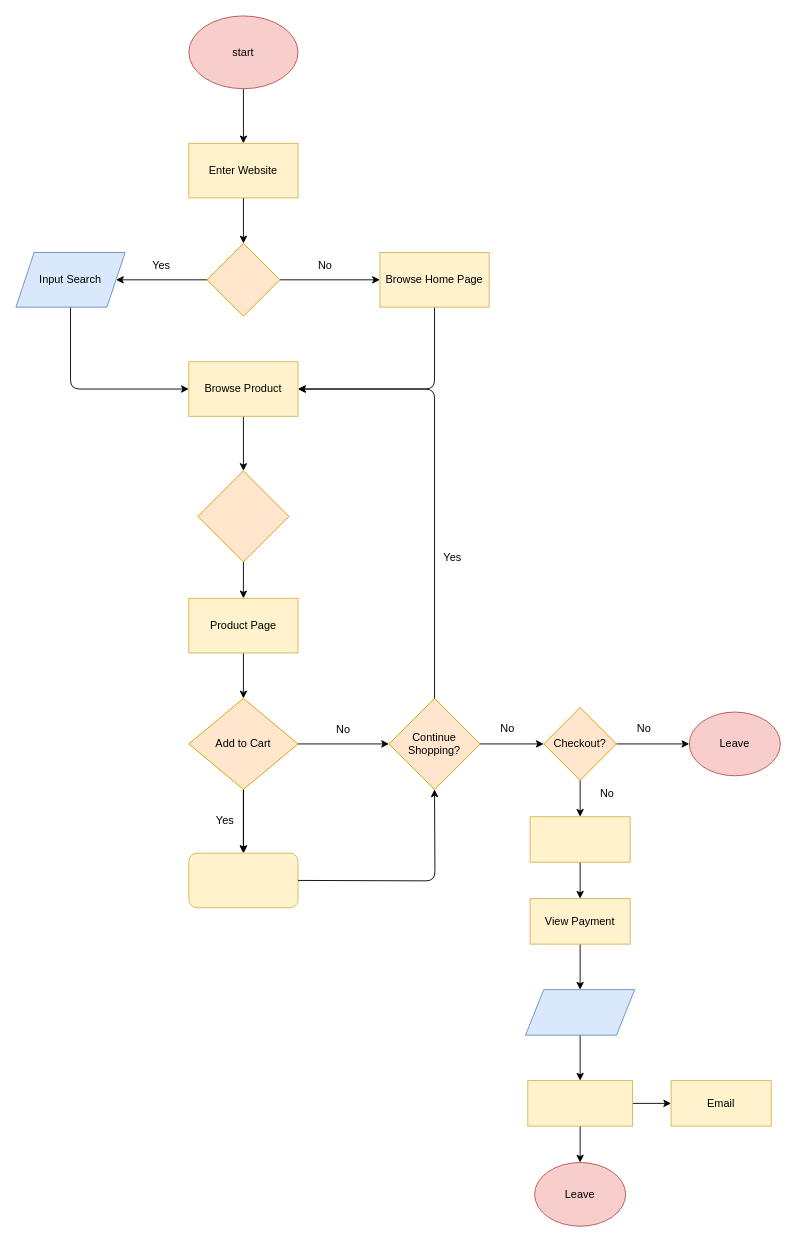
Some shapes in this 796 by 1242 pixel diagram are drawn without their labels. Each missing label, with the centre of its shape:
"Added to Cart Confirmation" goes at (x=243, y=880).
"Input Payment Info" goes at (x=580, y=1012).
"Order Confirmation" goes at (x=579, y=1103).
"Search Product" goes at (x=243, y=279).
"View Cart" goes at (x=579, y=839).
"View Specific Product" goes at (x=243, y=516).
